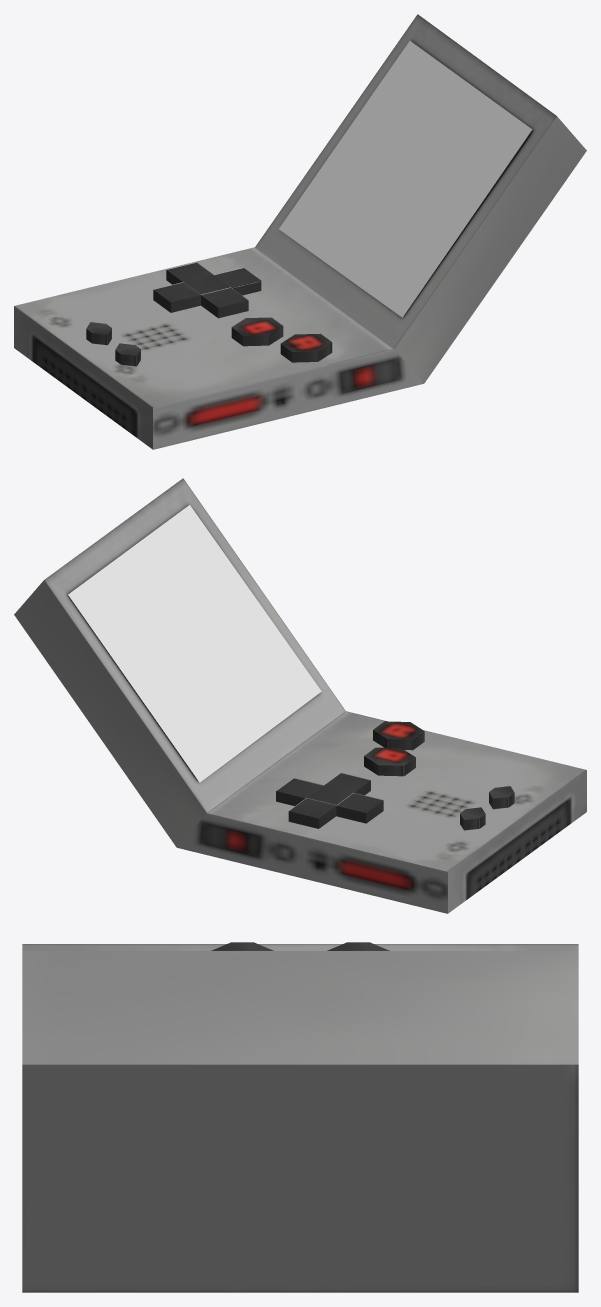
3 renders of one model, top to bottom at view 1: azimuth 30°, elevation 25°; view 2: azimuth 150°, elevation 25°; view 3: azimuth 270°, elevation 25°, orthographic. The views are drawn at different scales.
Parts seen in each view (by area): view 1: gba, screen, controler, B, A; view 2: gba, screen, controler, B, A; view 3: gba.
Boxes of the visible parts, bbox=[...] form: gba: bbox=[14, 14, 586, 449]; screen: bbox=[279, 41, 532, 317]; controler: bbox=[153, 262, 261, 318]; B: bbox=[231, 317, 283, 346]; A: bbox=[280, 333, 332, 362]; gba: bbox=[14, 478, 586, 913]; screen: bbox=[68, 505, 321, 782]; controler: bbox=[276, 773, 383, 828]; B: bbox=[364, 747, 415, 776]; A: bbox=[373, 721, 424, 750]; gba: bbox=[22, 944, 578, 1292].
Bounding box in the file's own units: 108 × 56 × 60.
2 materials, 1 textured.
